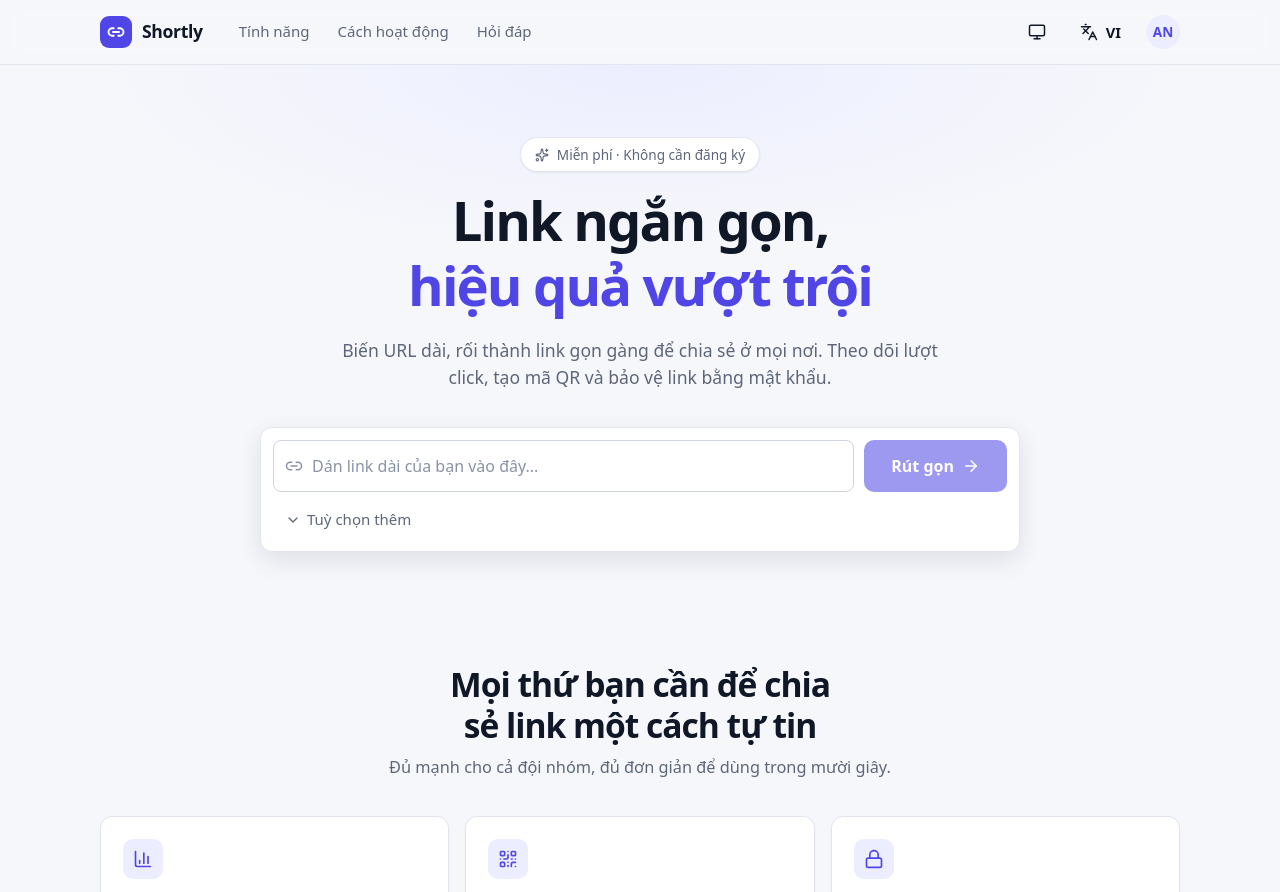
avatar ở thanh trên của trang công khai › menu hiện tên, email và ba mục: Link của tôi, Cài đặt, Đăng xuất
Click the button with aria-label "Menu tài khoản" at (1163, 32), box [1146, 15, 1180, 49]
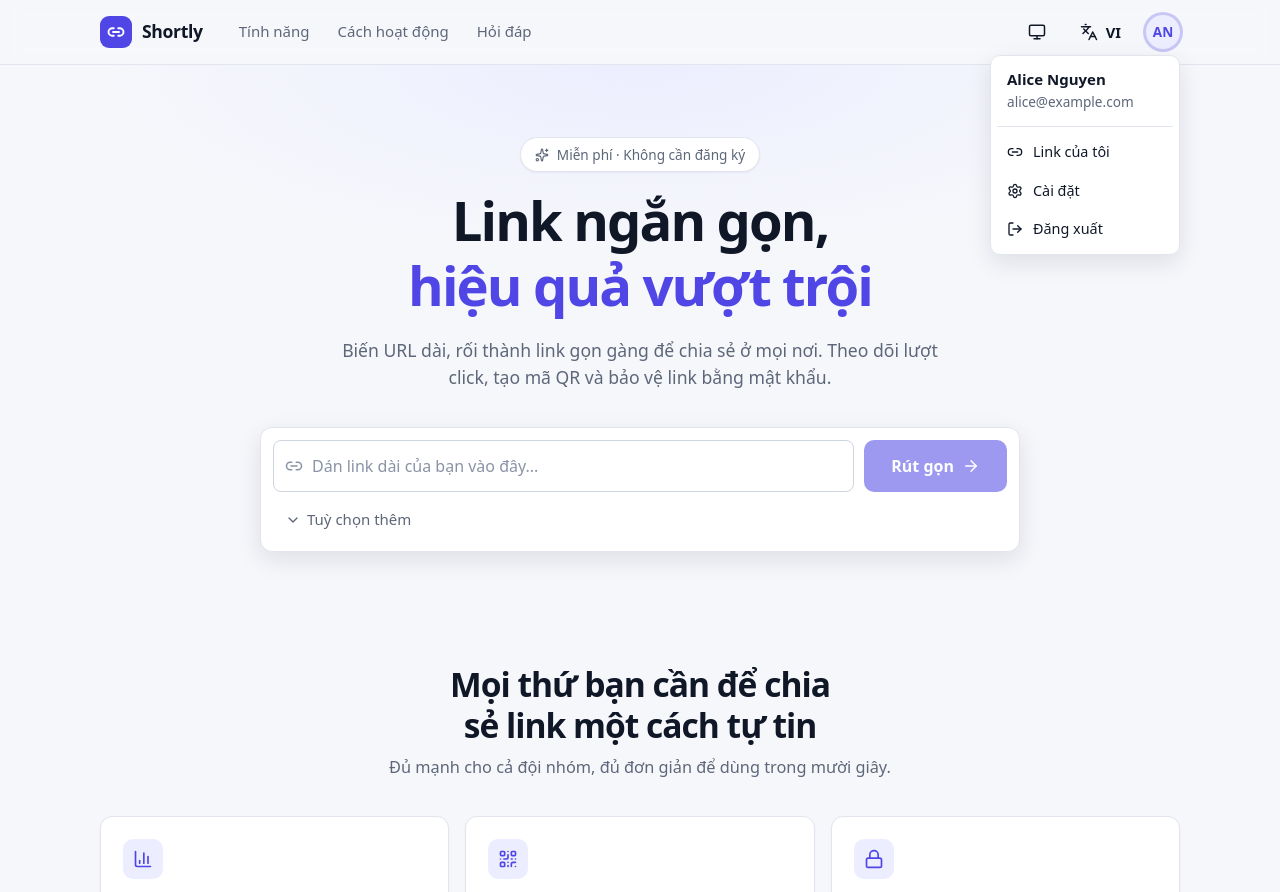
Result: the text "Alice Nguyen" is shown at [1007, 69, 1106, 89]
Result: the text "alice@example.com" is shown at [1007, 92, 1134, 111]
Result: the menu items read "Link của tôi", "Cài đặt", "Đăng xuất", in this order at [997, 133, 1173, 172]; [997, 172, 1173, 210]; [997, 210, 1173, 248]
